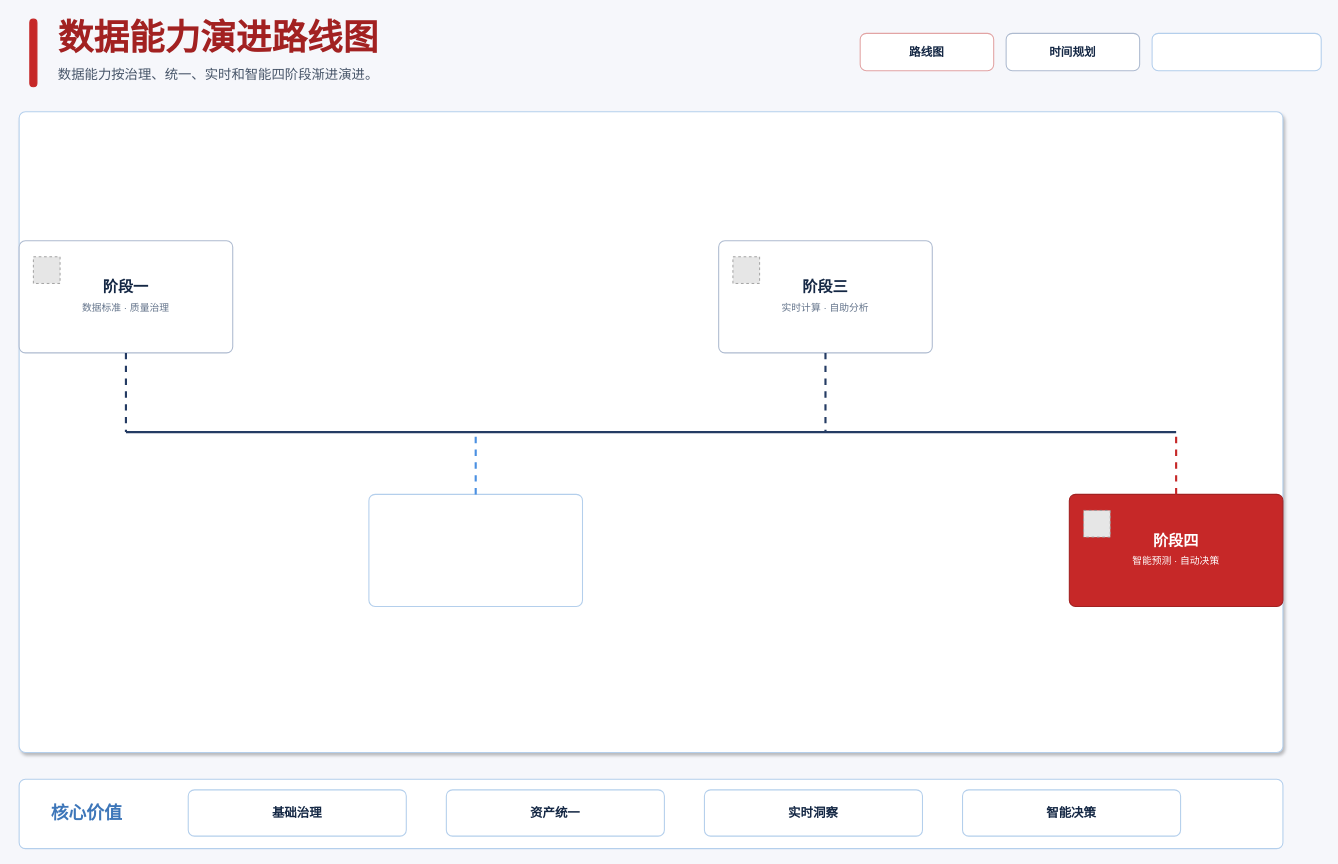
Image size: 1338x864. Some labels were removed from this diagram. Grey dashed boxes stand in for pictures. Here are the shapes that lost their labels. From the top down, the centre of each, then its label:
point 1236,51: Steady Red & Blue
point 475,550: 阶段二 统一指标 · 主题资产
